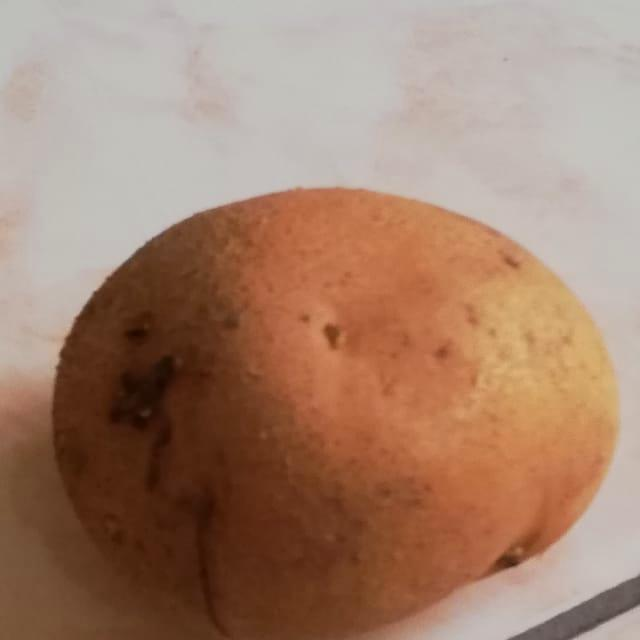potato: (38, 142, 640, 640)
